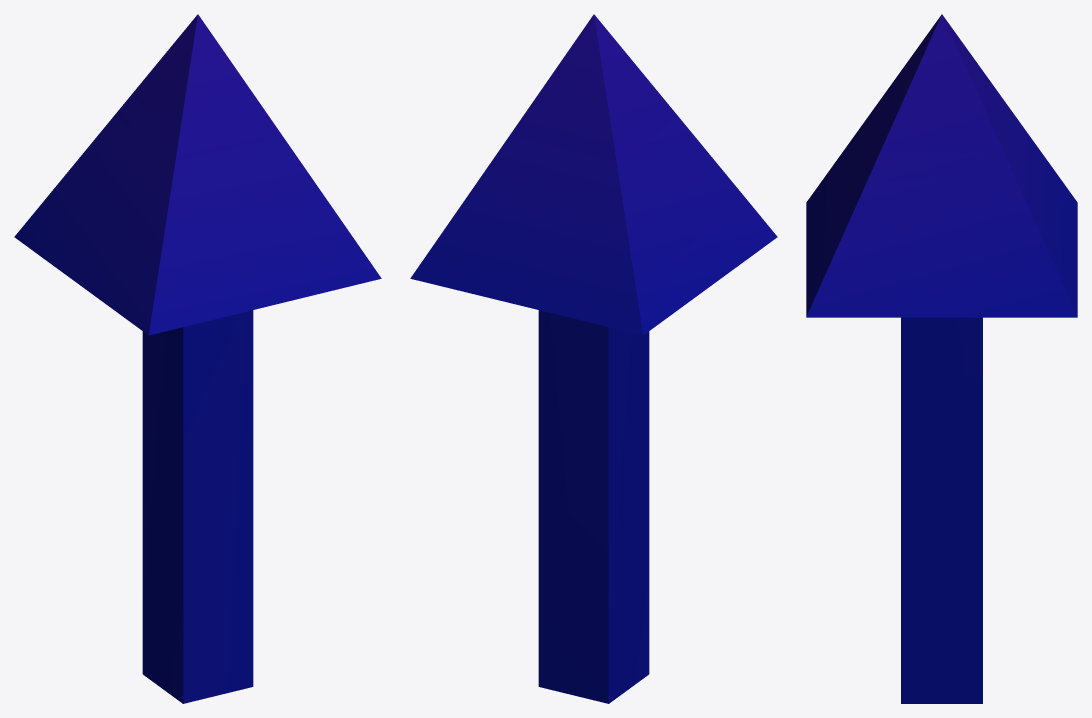
Rendered from arrow-z.fbx.
3 views of the same model, side by side, from view 1: azimuth 30°, elevation 25°; view 2: azimuth 150°, elevation 25°; view 3: azimuth 270°, elevation 25° (orthographic).
Visible parts, largest first — view 1: Cube; view 2: Cube; view 3: Cube.
Boxes of the visible parts, left/top/right/bottom form: Cube: left=14, top=14, right=381, bottom=703; Cube: left=410, top=14, right=777, bottom=703; Cube: left=806, top=14, right=1077, bottom=703.
Bounding box in the file's own units: 200 × 547 × 200.
